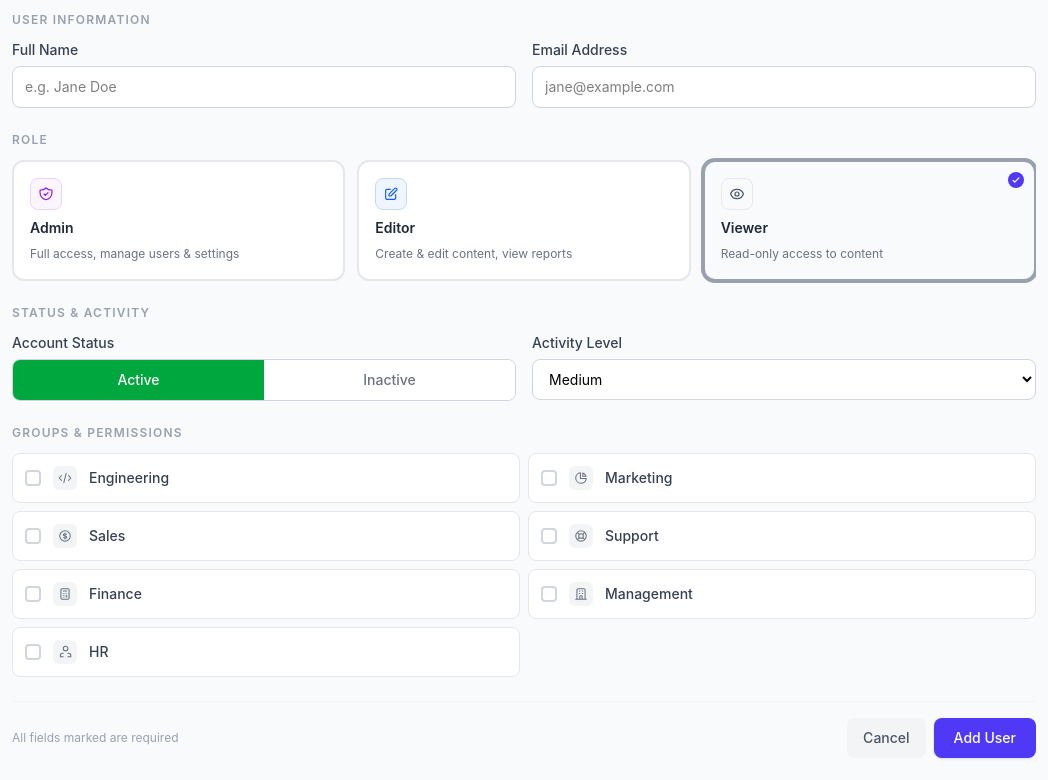
Test case: Validation: empty form submission › shows name required error when name is blank
Click the button "Add User" at (985, 738), box [934, 718, 1036, 758]
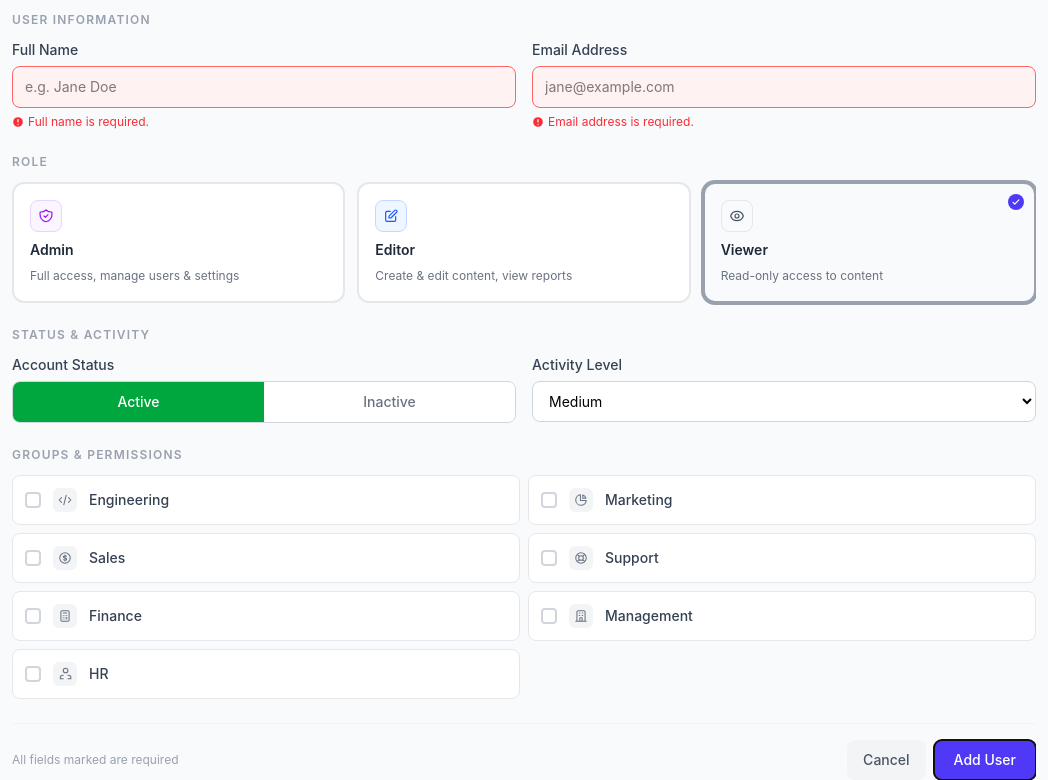
Now the text "Full name is required." is shown, box [12, 114, 149, 129]
